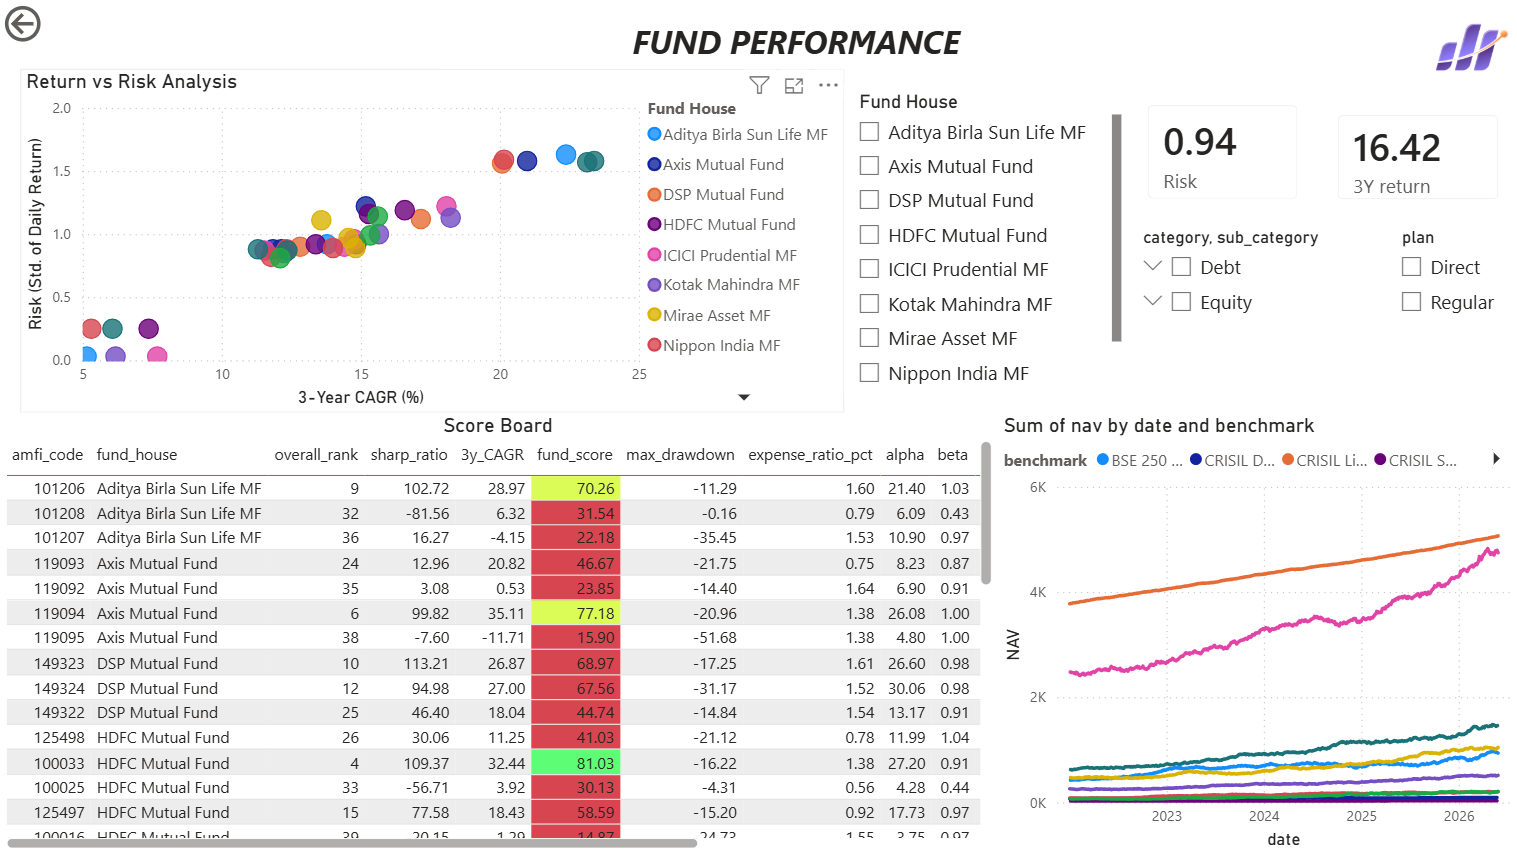

The page's visual inventory and layout, read from the dashboard file:
{"tool":"powerbi","page":{"name":"Dashboard Page 2","canvas":[1280,720],"ordinal":1},"visuals":[{"type":"scatterChart","title":"Return vs Risk Analysis","fields":{"X":["scheme_performance.return_3yr_pct"],"Y":["Sum(sharpe_values.std_daily_return)"],"Series":["fund_master.fund_house"]},"box":[17.4,58.1,694.2,289.5],"z":0},{"type":"tableEx","title":"Score Board","fields":{"Values":["fund_scorecard.amfi_code","fund_master.fund_house","Sum(fund_scorecard.overall_rank)","Sum(fund_scorecard.sharp_ratio)","Sum(fund_scorecard.3y_CAGR)","Sum(fund_scorecard.fund_score)","Sum(fund_scorecard.max_drawdown)","Sum(fund_scorecard.expense_ratio_pct)","Sum(fund_scorecard.alpha)","Sum(scheme_performance.beta)","scheme_performance.scheme_name"]},"box":[0,347.7,840.7,372.1],"z":1000},{"type":"lineChart","fields":{"Category":["nav_history.date"],"Y":["Sum(nav_history.nav)"],"Series":["fund_master.benchmark"]},"box":[840.7,347.7,439.5,372.1],"z":2000},{"type":"slicer","fields":{"Values":["fund_master.fund_house"]},"box":[711.6,72.1,238.4,265.1],"z":3000},{"type":"textbox","box":[370.5,0,601.1,57.9],"z":4000},{"type":"cardVisual","fields":{"Data":["All Measures.Risk"]},"box":[950,72.1,160.5,114],"z":5000},{"type":"cardVisual","fields":{"Data":["All Measures.3Y return"]},"box":[1110.5,80.2,169.8,105.8],"z":6000},{"type":"slicer","fields":{"Values":["fund_master.category","fund_master.sub_category"]},"box":[950,186,208.1,151.2],"z":7000},{"type":"slicer","fields":{"Values":["scheme_performance.plan"]},"box":[1168.6,186,111.6,141.9],"z":8000},{"type":"actionButton","box":[0,0,100,40],"z":9000},{"type":"image","box":[1200.2,0,79.8,79.8],"z":10000}]}

Visuals, with their boxes in screenshot pixels (x1, y1, x2, y2), scaled from the page's 1280x720 canvas onto the 1517x851 screenshot:
"Return vs Risk Analysis" scatterChart: 21 69 843 411
"Score Board" tableEx: 0 411 996 850
lineChart - nav_history.date x Sum(nav_history.nav): 996 411 1516 850
slicer - fund_master.fund_house: 843 85 1126 399
textbox: 439 0 1151 68
cardVisual - All Measures.Risk: 1126 85 1316 220
cardVisual - All Measures.3Y return: 1316 95 1516 220
slicer - fund_master.category x fund_master.sub_category: 1126 220 1373 399
slicer - scheme_performance.plan: 1385 220 1516 388
actionButton: 0 0 119 47
image: 1422 0 1516 94
